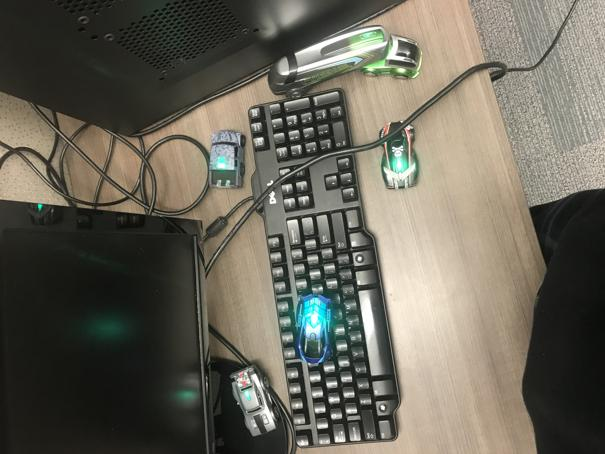Charger: (228, 364, 283, 436)
Freewheel: (267, 25, 425, 99)
MXT: (208, 123, 247, 192)
Shock: (296, 294, 335, 366)
Skull: (379, 121, 421, 191)
